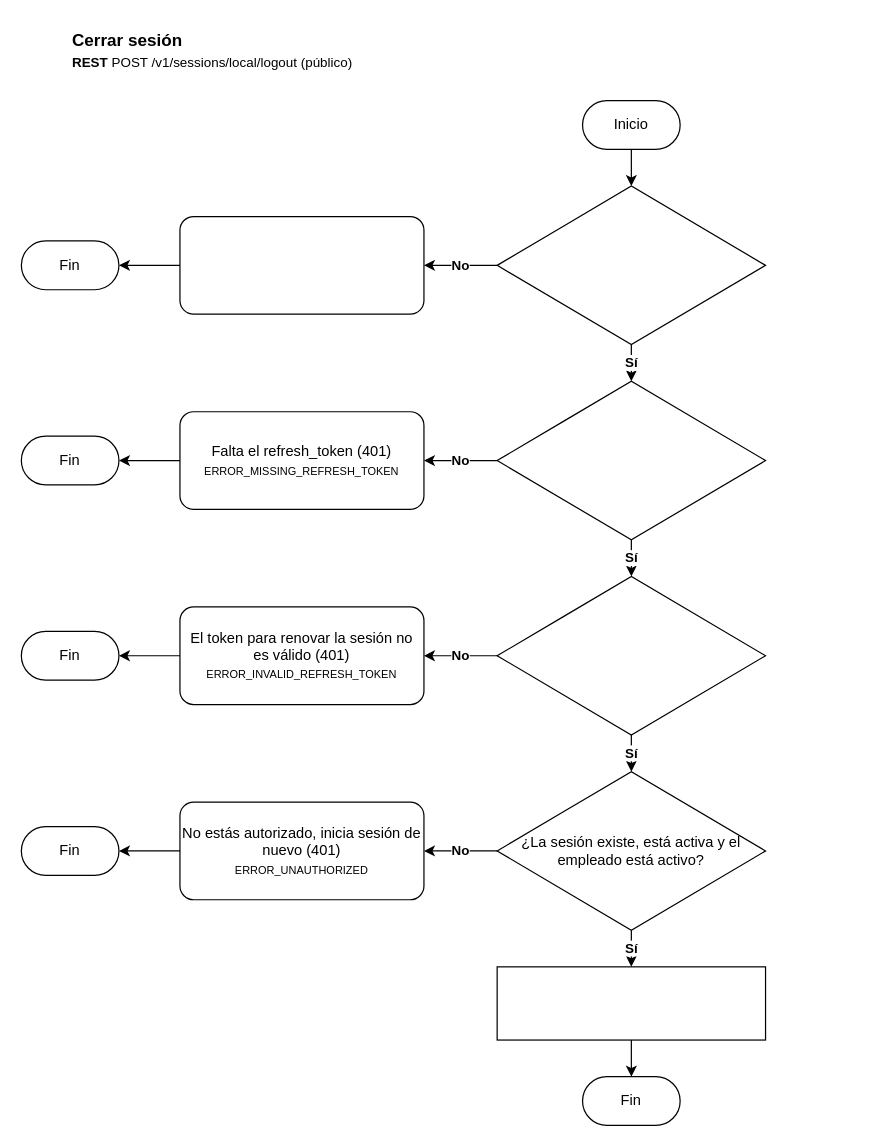
Some shapes in this 872 by 1147 pixel diagram are drawn without their labels. Each missing label, with the box of its shape:
Responder 200 con el mensaje SESSION_LOGGED_OUT: (496, 966, 766, 1040)
Servidor sin emparejar (409) ERROR_SERVER_NOT_PAIRED: (179, 215, 424, 314)
¿El refresh_token es válido?: (496, 575, 766, 735)
¿El servidor ya se emparejó alguna vez (pairing_status distinto de unpaired)?: (496, 185, 766, 345)
¿Trae el refresh_token?: (496, 380, 766, 540)
